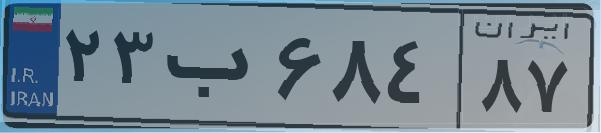2: (57, 26, 110, 100)
3: (110, 28, 158, 98)
4: (385, 28, 445, 110)
6: (270, 28, 330, 110)
7: (525, 38, 570, 115)
8: (330, 28, 385, 110), (475, 38, 525, 113)
ب: (158, 20, 270, 120)
